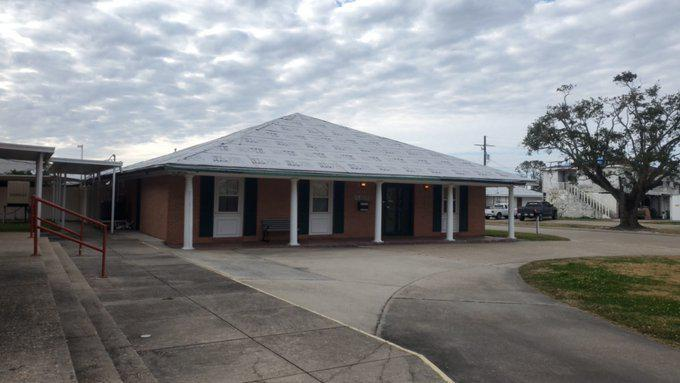minor: (55, 103, 538, 250)
